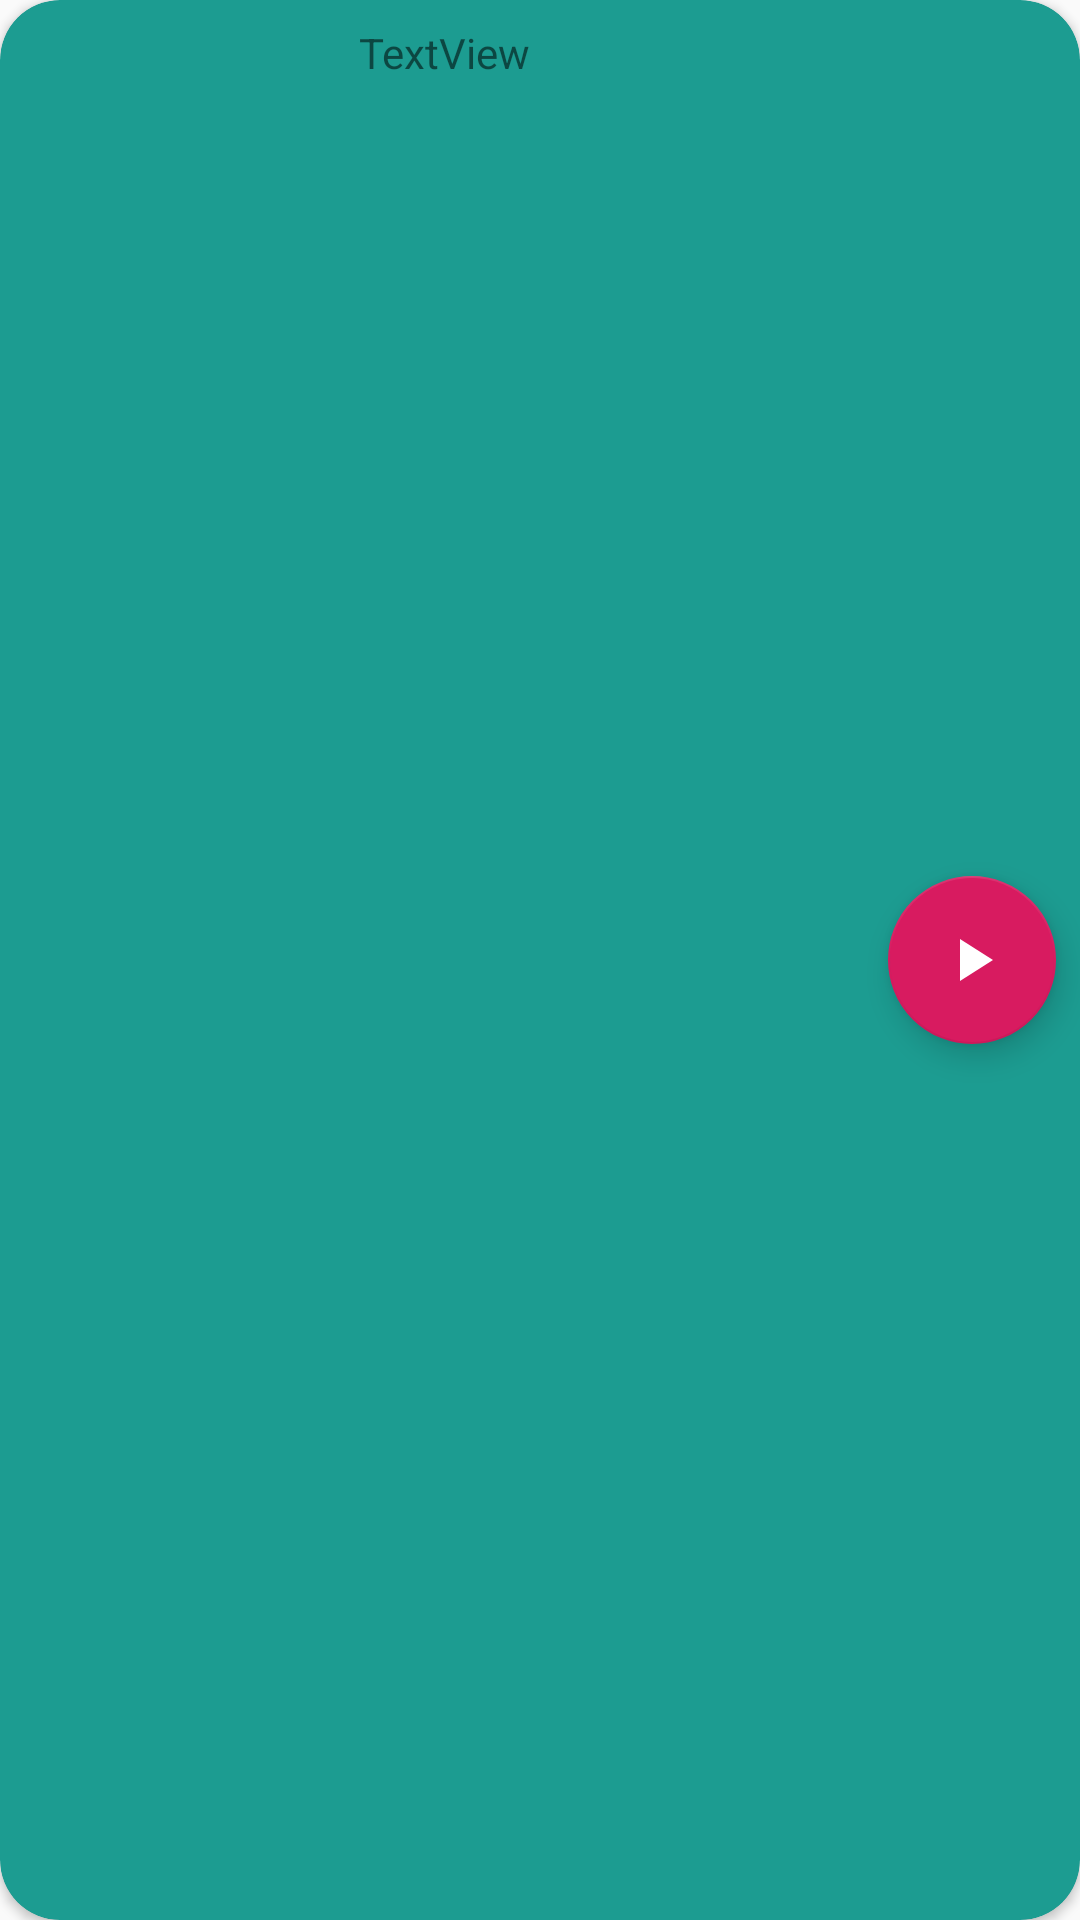

Where to tap for icons on this 1080px x 1920px app screen, as [x,y]:
play no circle: [972,960]
